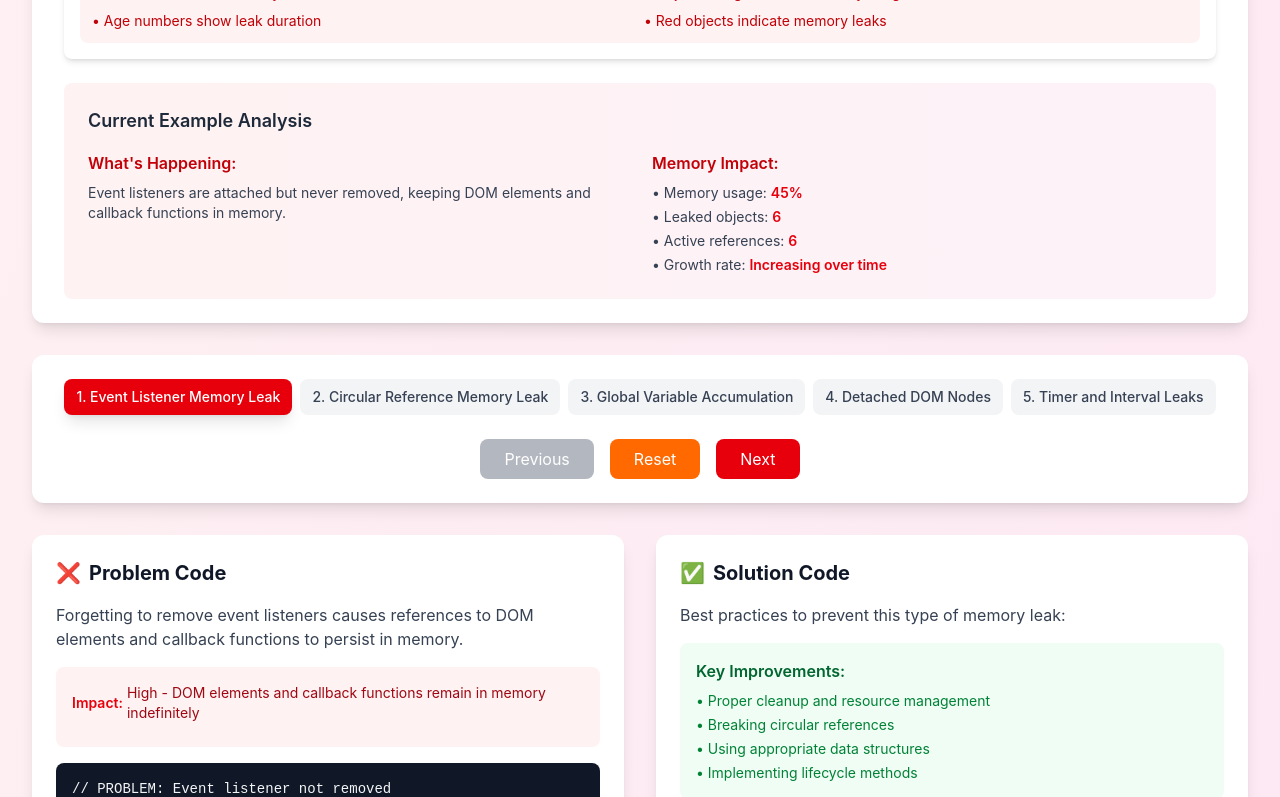
Test case: the JavaScript sections’ links into the Playground › Memory Leaks links the two solutions that run in the Playground
(page scrolled)
Click the button "2. Circular Reference Memory Leak": click(430, 397) [300,379,560,415]
Wait 10000 ms
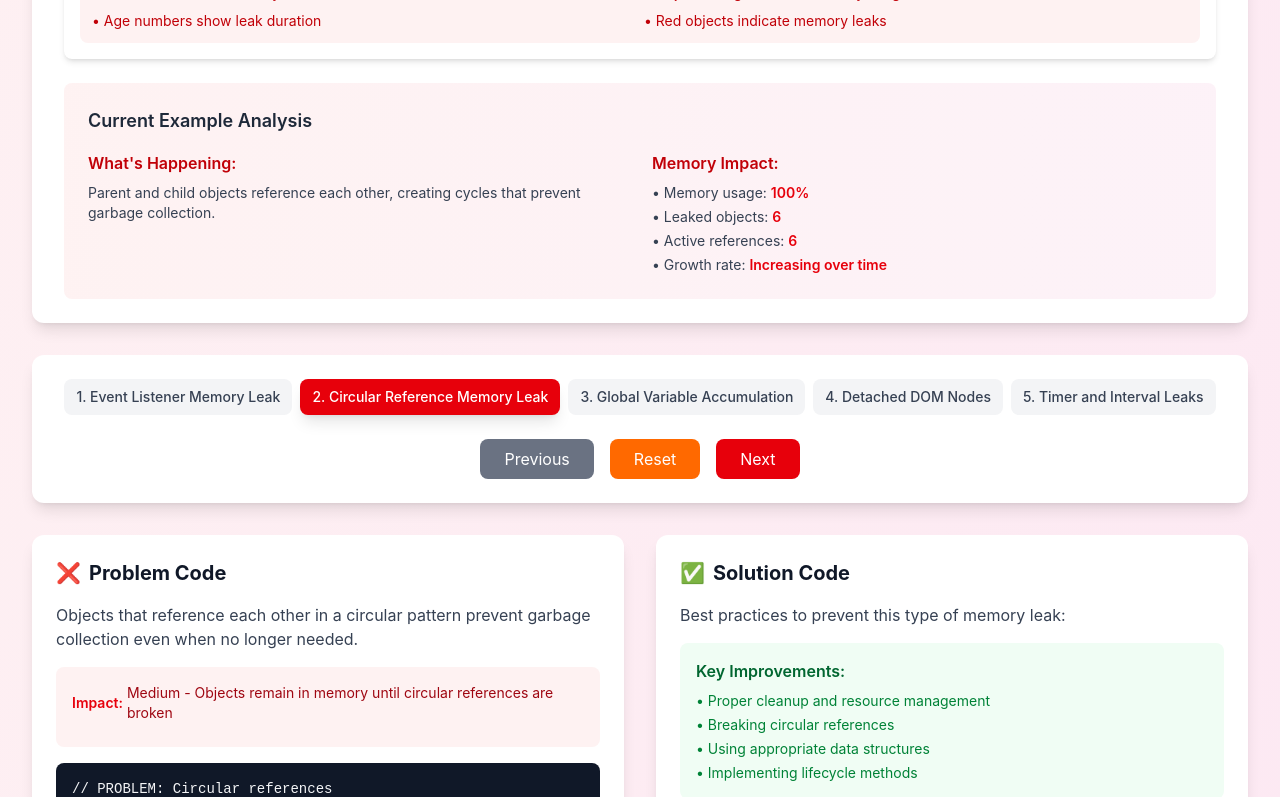
Click the button "3. Global Variable Accumulation": click(687, 397) [568,379,805,415]
Wait 10000 ms
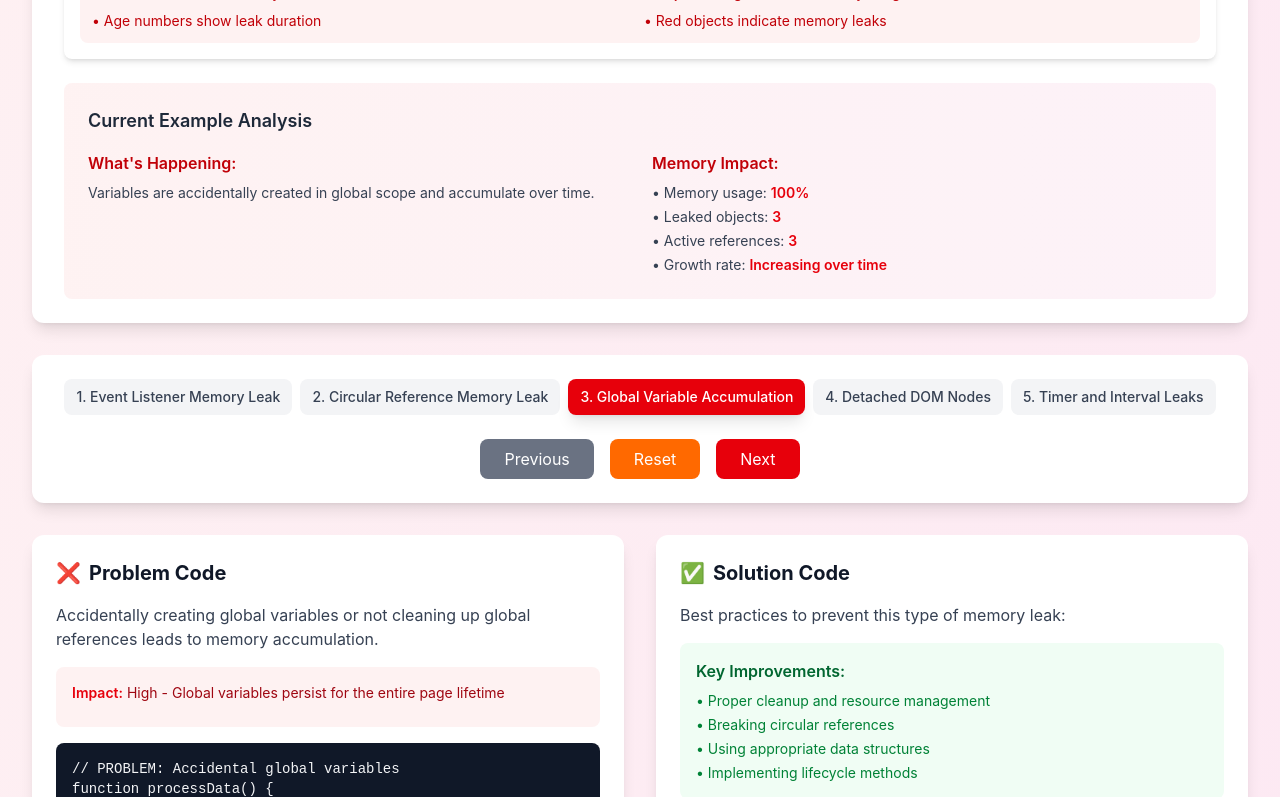
Click the button "5. Timer and Interval Leaks": click(1113, 397) [1011,379,1216,415]
Wait 10000 ms
(page scrolled)
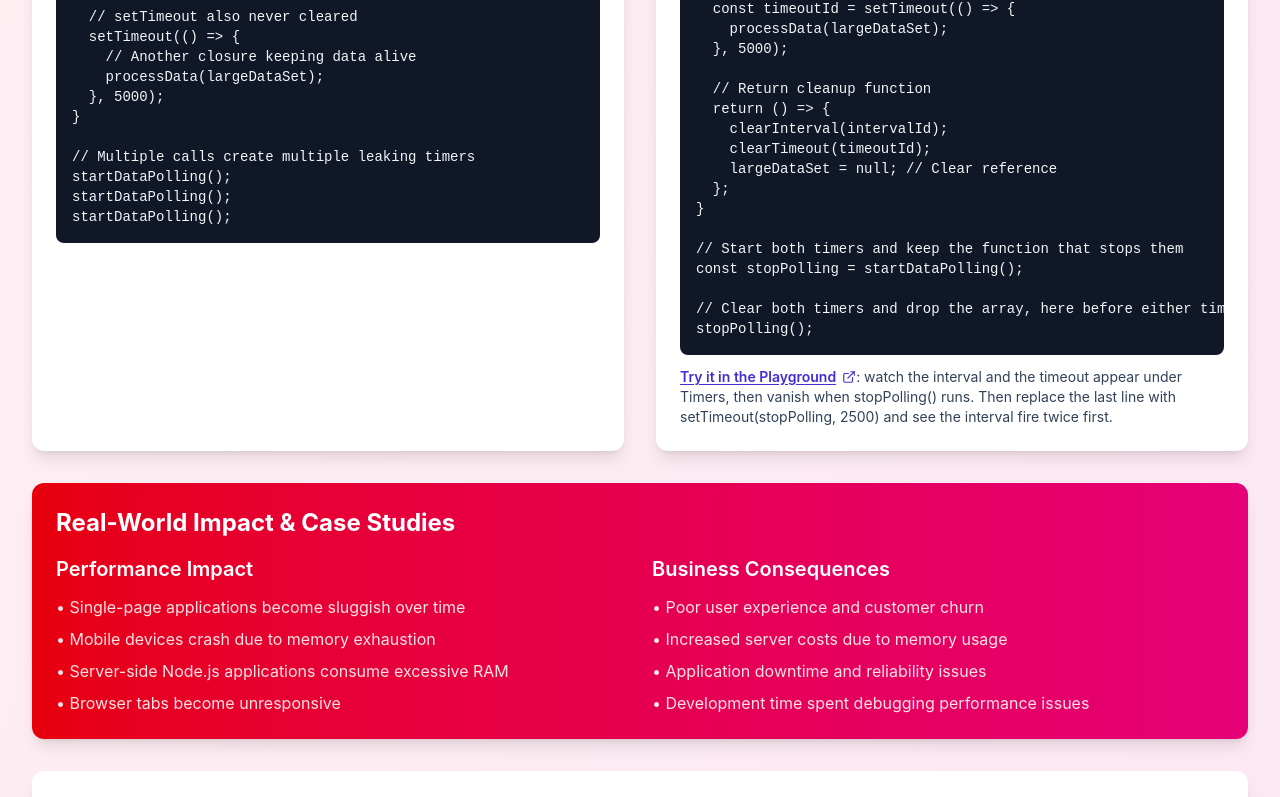
Expected: the element "Try it in the Playground" shows "watch the interval and the timeout appear under Timers, then vanish when stopPolling() runs. Then replace the last line with setTimeout(stopPolling, 2500) and s", [680,368,1182,425]
